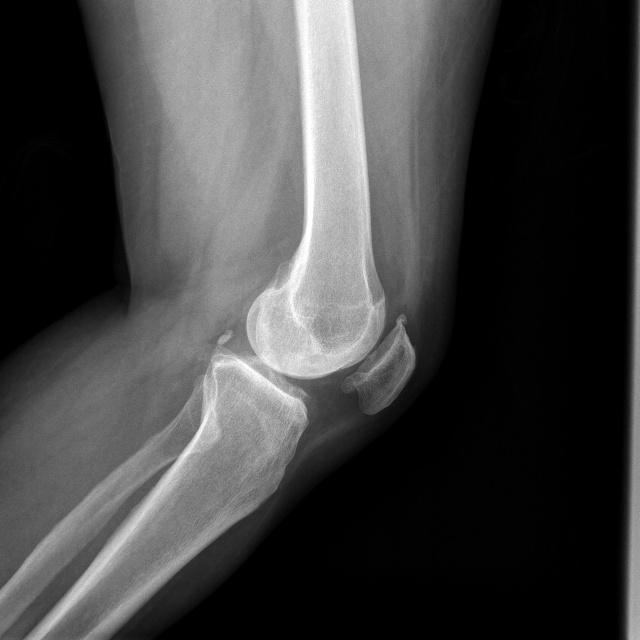Knee: (196, 253, 418, 464)
